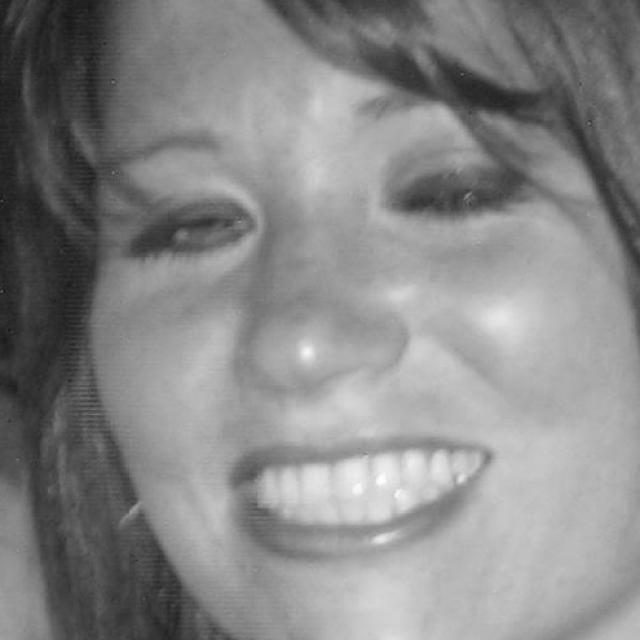real: (83, 0, 634, 640), (122, 154, 534, 264)
